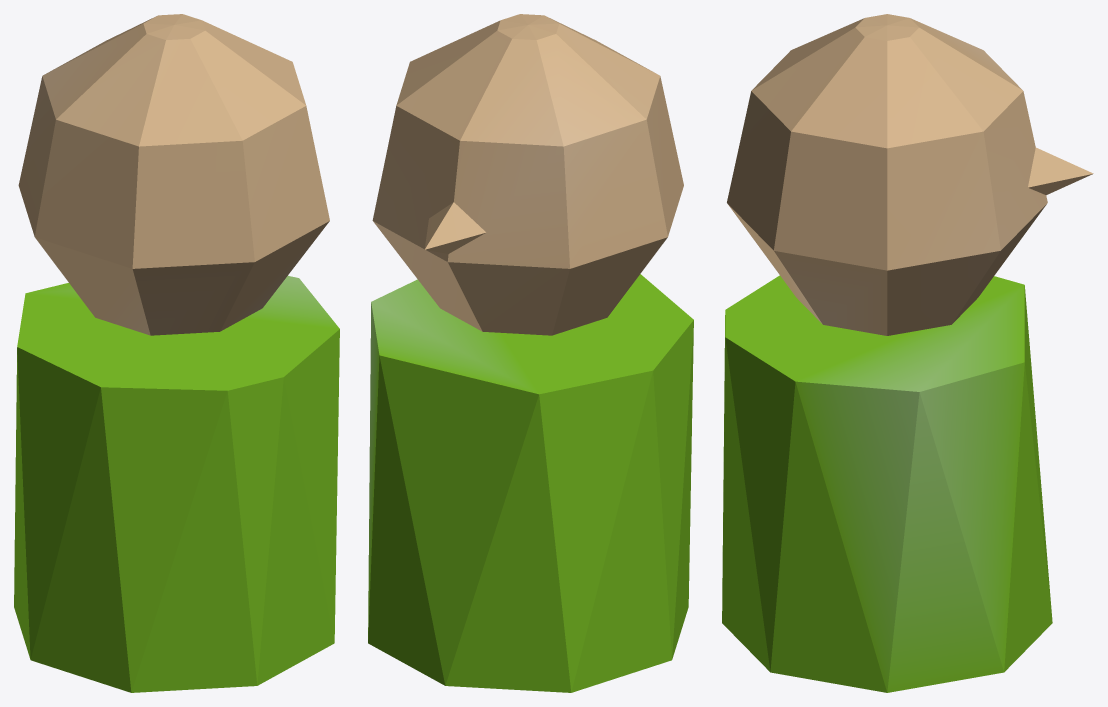
The picture shows the model from 3 angles, left to right: view 1: azimuth 30°, elevation 25°; view 2: azimuth 150°, elevation 25°; view 3: azimuth 270°, elevation 25°; orthographic projection.
Parts seen in each view (by area): view 1: 球; view 2: 球; view 3: 球.
Part boxes in pixels (left/top/right/bottom): 球: left=14, top=14, right=339, bottom=692; 球: left=368, top=14, right=693, bottom=692; 球: left=722, top=14, right=1093, bottom=692.
Bounding box in the file's own units: 100 × 200 × 113.
